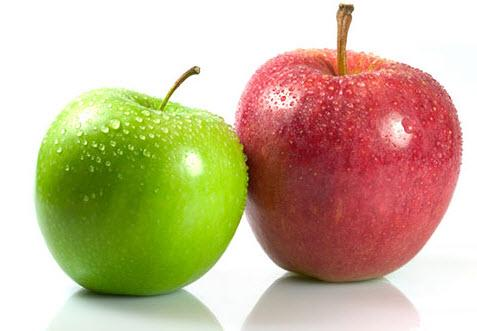apples: (260, 20, 439, 300), (37, 56, 242, 298)
